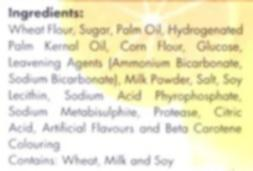ingredients: (3, 4, 249, 171)
